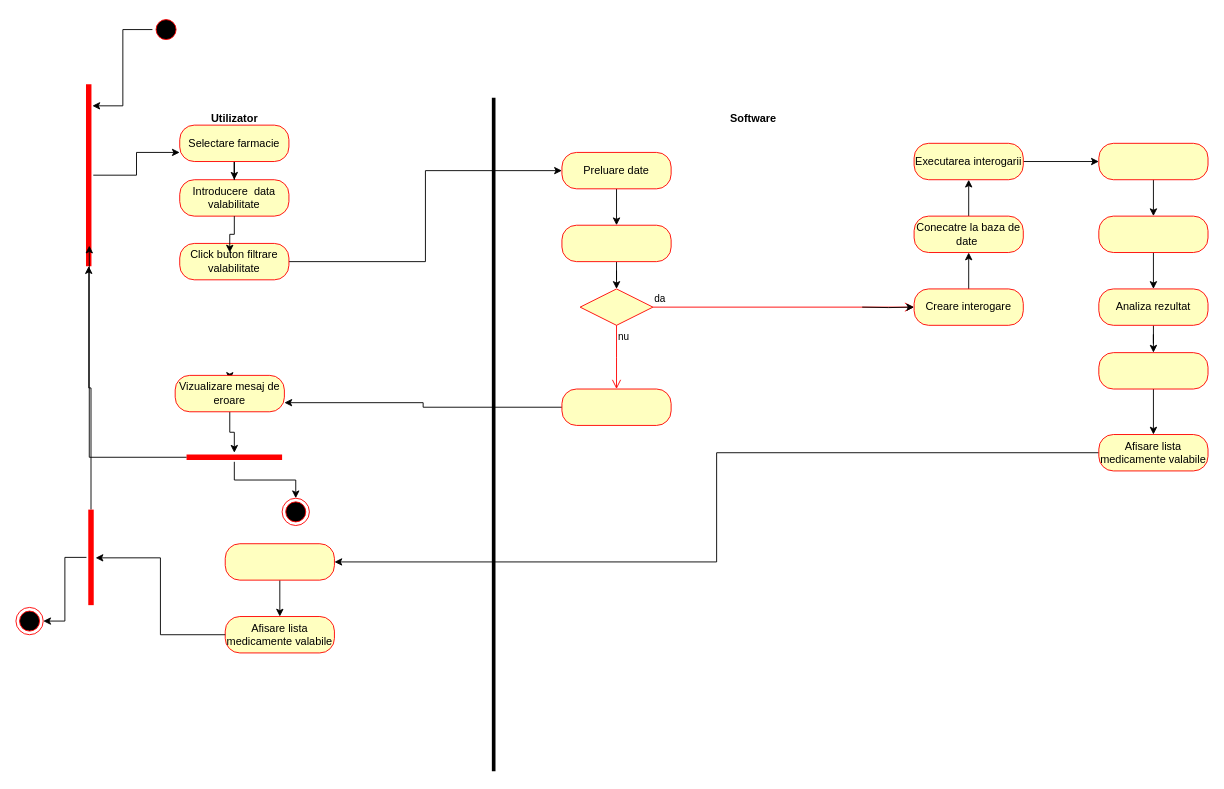
This 1224x789 diagram has some shape labels left out. Each missing label, with the box of its shape:
Afisare mesaj de succes: (224, 543, 334, 580)
Afisare mesaj succes: (1098, 352, 1208, 389)
Afiseaza mesaj de eroare: (561, 388, 671, 425)
Deconectare de la baza de date: (1098, 142, 1208, 180)
Preluare rezultate interogare: (1098, 215, 1208, 253)
Validare date: (561, 224, 671, 262)
